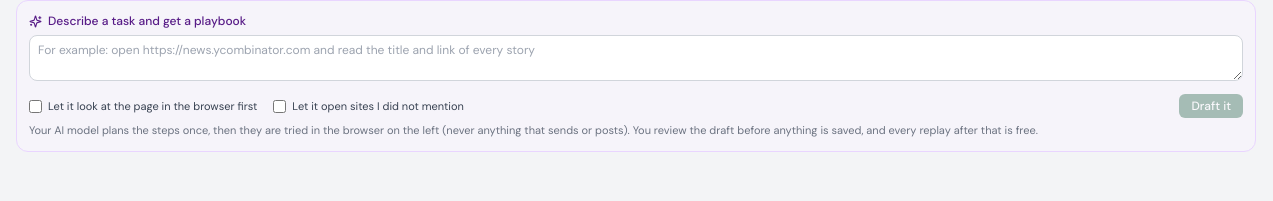
Test case: DescribeBox › shows why a draft failed, in words, and can be tried again
The image size is (1273, 201).
In the text box named "Describe the task": (636, 58) [29,35,1243,81], type "open the list and read it"
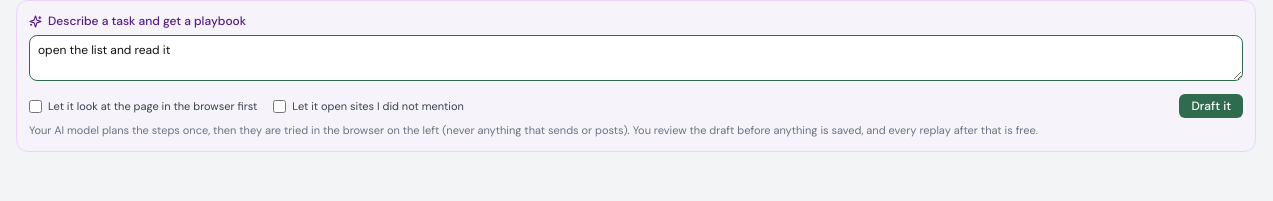
Click the button "Draft it": (1211, 106) [1179,94,1243,118]
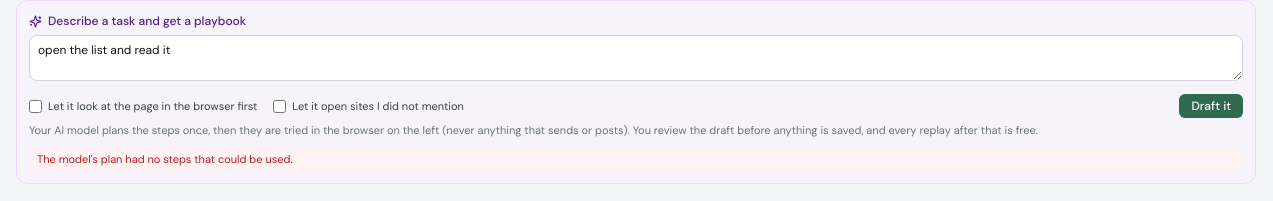
Result: the button "Draft it" is enabled at [1179,94,1243,118]
Result: the message shows "no steps that could be used" at [37,152,293,166]
